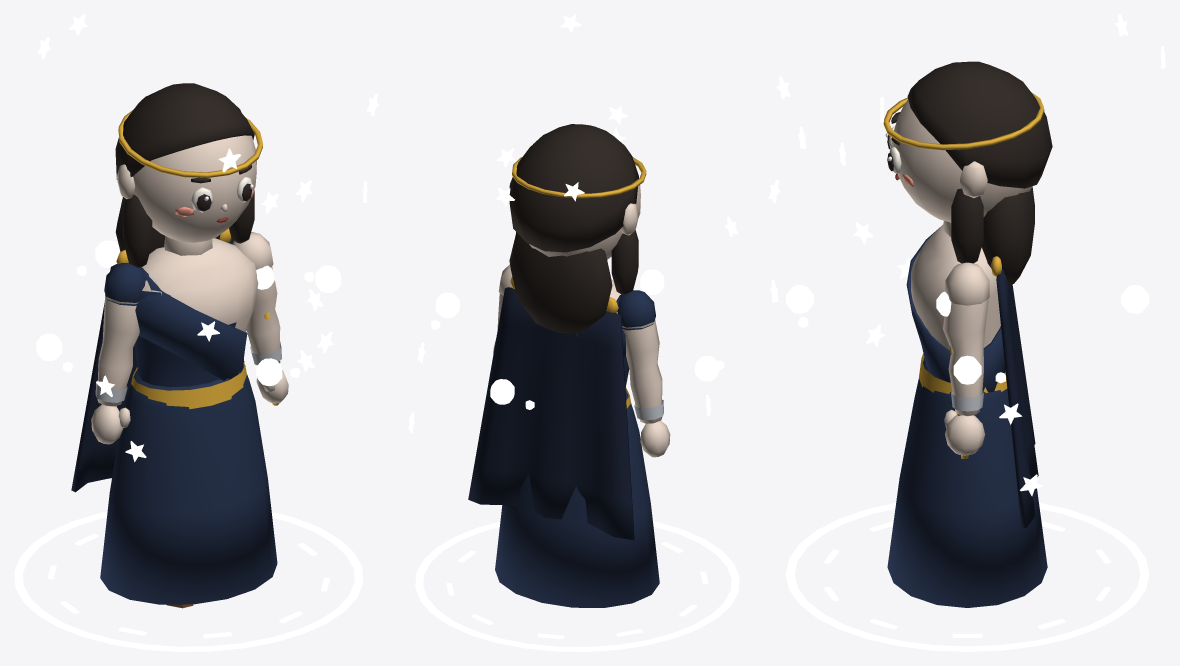
Rendered from nyx.glb.
The picture shows the model from 3 angles, left to right: view 1: azimuth 30°, elevation 25°; view 2: azimuth 150°, elevation 25°; view 3: azimuth 270°, elevation 25°; orthographic projection. The views are drawn at different scales.
Parts seen in each view (by area): view 1: huefte, rumpf, haare, kopf, armL, vfx_aura, armR, umhang, vfx_orbs, kopfschmuck, vfx_sterne_2, vfx_sterne_1 (+1 smaller); view 2: umhang, haare, huefte, armL, vfx_aura, vfx_orbs, kopf, kopfschmuck, vfx_sterne_1, vfx_sterne_2; view 3: huefte, haare, rumpf, armR, vfx_aura, kopf, umhang, vfx_orbs, kopfschmuck, vfx_sterne_2, vfx_sterne_0, vfx_sterne_1.
Part boxes in pixels (x1,y1,x2,y2): huefte: (100, 364, 277, 604); rumpf: (131, 238, 258, 409); haare: (115, 83, 254, 267); kopf: (116, 135, 256, 255); armL: (91, 263, 145, 444); vfx_aura: (14, 511, 363, 651); armR: (232, 232, 288, 403); umhang: (71, 228, 244, 492); vfx_orbs: (36, 240, 341, 385); kopfschmuck: (118, 110, 262, 177); vfx_sterne_2: (125, 180, 323, 461); vfx_sterne_1: (37, 14, 379, 213); umhang: (468, 277, 634, 539); haare: (509, 124, 638, 333); huefte: (495, 390, 659, 607); armL: (617, 290, 670, 457); vfx_aura: (415, 521, 739, 651); vfx_orbs: (431, 269, 724, 409); kopf: (529, 185, 640, 259); kopfschmuck: (512, 128, 646, 198); vfx_sterne_1: (495, 14, 584, 206); vfx_sterne_2: (408, 106, 711, 433); huefte: (887, 358, 1047, 607); haare: (907, 61, 1052, 285); rumpf: (906, 224, 1007, 393); armR: (943, 262, 989, 455); vfx_aura: (785, 502, 1149, 651); kopf: (892, 99, 1032, 237); umhang: (991, 256, 1038, 527); vfx_orbs: (786, 234, 1149, 384); kopfschmuck: (880, 92, 1044, 150); vfx_sterne_2: (798, 126, 1042, 496); vfx_sterne_0: (768, 179, 910, 302); vfx_sterne_1: (776, 14, 1165, 165).
Bounding box in the file's own units: 1.48 × 2.45 × 1.61.
